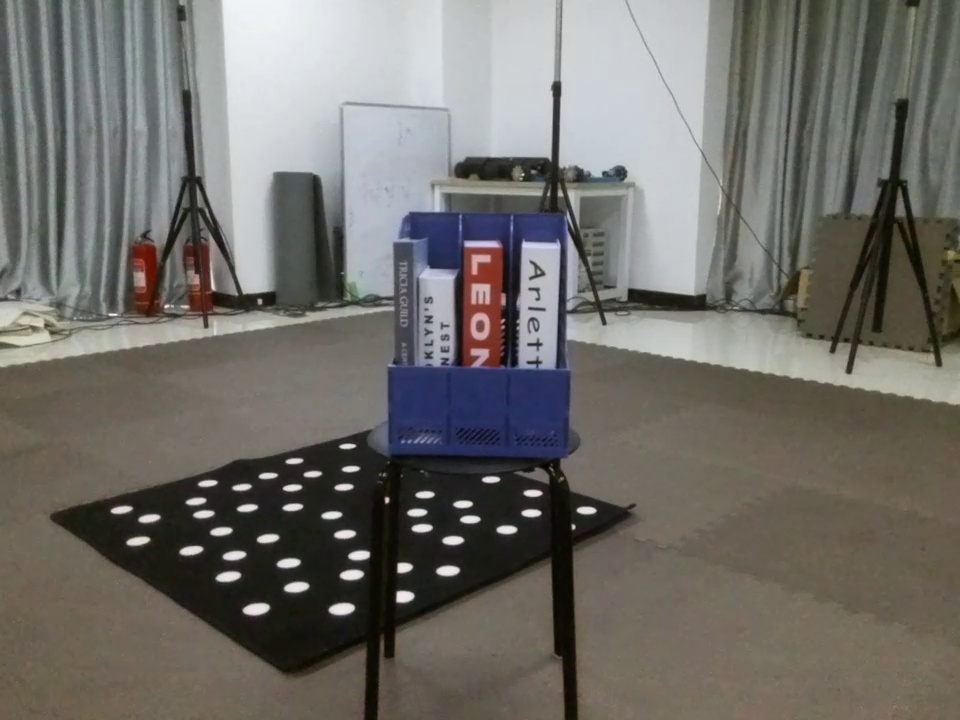files: (378, 200, 577, 465)
